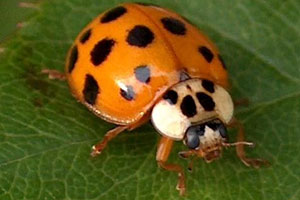asian multicolored lady: (51, 1, 252, 168)
